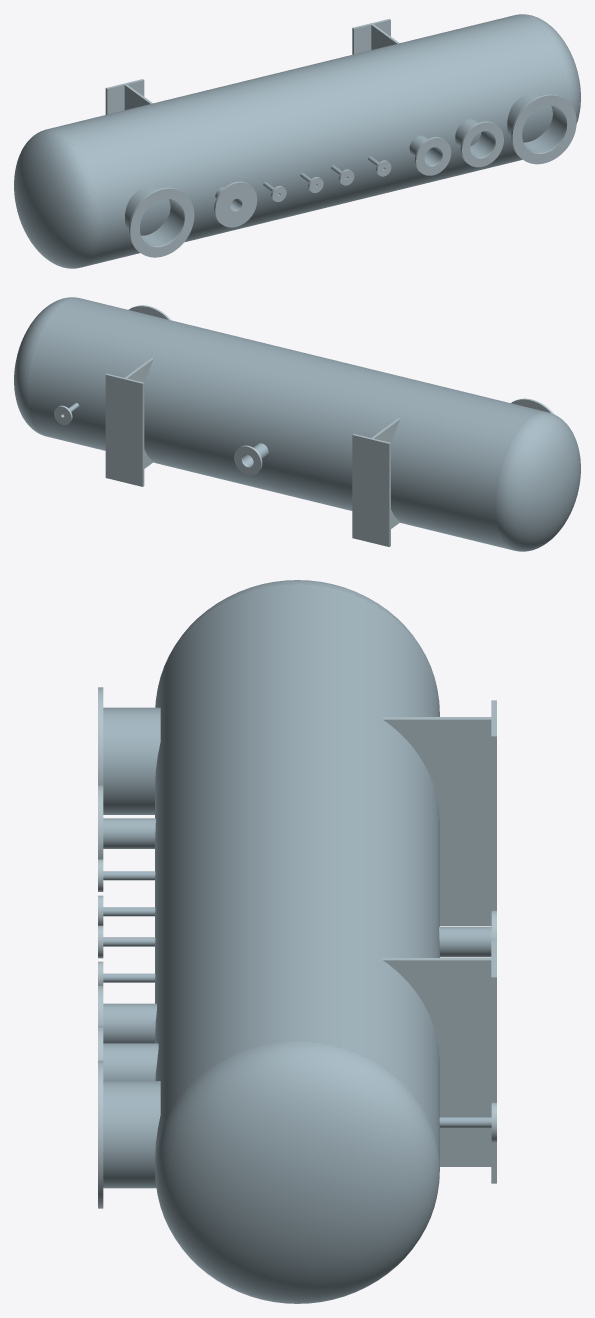
The picture shows the model from 3 angles, top to bottom: view 1: azimuth 30°, elevation 25°; view 2: azimuth 150°, elevation 25°; view 3: azimuth 270°, elevation 25°; orthographic projection. The views are drawn at different scales.
Parts seen in each view (by area): view 1: 本体_卧式筒体, 本体_椭圆封头-1, 接口_a法兰, 接口_g法兰, 接口_b法兰, 本体_椭圆封头1, 接口_a接管, 接口_g接管, 接口_f法兰, 接口_e法兰, 支承_鞍座1底板, 接口_f接管 (+4 smaller); view 2: 本体_卧式筒体, 本体_椭圆封头-1, 支承_鞍座2底板, 支承_鞍座1底板, 本体_椭圆封头1, 接口_h法兰, 支承_鞍座2腹板, 支承_鞍座1腹板; view 3: 本体_卧式筒体, 本体_椭圆封头1, 支承_鞍座1腹板, 支承_鞍座2腹板, 接口_g接管, 接口_a接管, 接口_e接管, 接口_f接管, 接口_h接管, 接口_b接管, 支承_鞍座1底板, 支承_鞍座2底板 (+1 smaller).
Boxes of the visible parts, x1,y1,x2,y2 form: 本体_卧式筒体: [48, 14, 566, 267]; 本体_椭圆封头-1: [14, 129, 98, 268]; 接口_a法兰: [129, 187, 194, 257]; 接口_g法兰: [511, 94, 576, 164]; 接口_b法兰: [214, 181, 257, 227]; 本体_椭圆封头1: [519, 14, 580, 123]; 接口_a接管: [125, 186, 183, 246]; 接口_g接管: [507, 93, 565, 152]; 接口_f法兰: [460, 121, 503, 167]; 接口_e法兰: [415, 137, 451, 175]; 支承_鞍座1底板: [105, 79, 144, 114]; 接口_f接管: [455, 119, 494, 157]; 本体_卧式筒体: [27, 297, 546, 550]; 本体_椭圆封头-1: [496, 412, 580, 551]; 支承_鞍座2底板: [105, 373, 144, 486]; 支承_鞍座1底板: [352, 434, 390, 546]; 本体_椭圆封头1: [14, 297, 75, 435]; 接口_h法兰: [234, 445, 262, 475]; 支承_鞍座2腹板: [125, 358, 153, 468]; 支承_鞍座1腹板: [371, 418, 400, 528]; 本体_卧式筒体: [155, 584, 439, 1168]; 本体_椭圆封头1: [155, 1041, 439, 1303]; 支承_鞍座1腹板: [382, 717, 491, 925]; 支承_鞍座2腹板: [382, 958, 491, 1166]; 接口_g接管: [103, 1081, 160, 1188]; 接口_a接管: [103, 707, 160, 814]; 接口_e接管: [103, 1003, 156, 1043]; 接口_f接管: [103, 1043, 158, 1080]; 接口_h接管: [439, 926, 491, 957]; 接口_b接管: [103, 818, 155, 848]; 支承_鞍座1底板: [491, 700, 496, 926]; 支承_鞍座2底板: [491, 941, 496, 1183].
Size of the model in its own units: 4.35 by 1 by 1.4.
